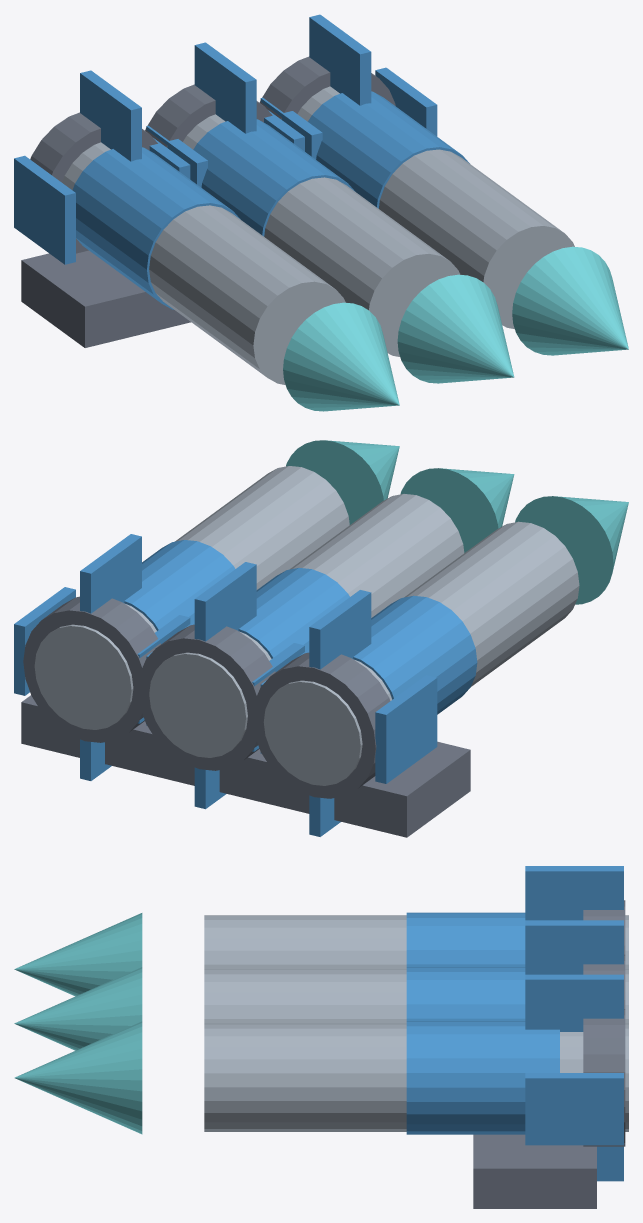
Rendered from pls-1.glb.
3 renders of one model, top to bottom at view 1: azimuth 30°, elevation 25°; view 2: azimuth 150°, elevation 25°; view 3: azimuth 270°, elevation 25°, orthographic. The views are drawn at different scales.
Parts seen in each view (by area): view 1: part000, part016, part008, part001, part010, part018, part002, part024, part009, part017, part006, part021 (+10 smaller); view 2: part000, part016, part008, part024, part001, part003, part019, part011, part002, part009, part017, part018 (+11 smaller); view 3: part016, part017, part000, part008, part024, part018, part020, part001, part009, part010, part002, part021 (+6 smaller).
Boxes of the visible parts, box(x1,y1,x2,y2) form: part000: box(62, 142, 345, 384); part016: box(297, 86, 574, 329); part008: box(183, 114, 460, 356); part001: box(72, 147, 240, 309); part010: box(397, 274, 514, 383); part018: box(512, 246, 628, 355); part002: box(283, 302, 399, 411); part024: box(21, 250, 190, 347); part009: box(193, 119, 355, 236); part017: box(308, 91, 469, 208); part006: box(14, 155, 75, 264); part021: box(309, 14, 371, 105); part000: box(263, 521, 579, 785); part016: box(34, 466, 349, 729); part008: box(149, 494, 464, 757); part024: box(21, 695, 470, 837); part001: box(353, 595, 477, 714); part003: box(252, 652, 390, 798); part019: box(23, 596, 160, 742); part011: box(138, 624, 275, 770); part002: box(515, 496, 628, 604); part009: box(238, 568, 349, 658); part017: box(124, 540, 235, 630); part018: box(286, 440, 399, 524); part016: box(204, 1023, 628, 1131); part017: box(406, 1021, 559, 1134); part000: box(204, 915, 628, 969); part008: box(204, 969, 628, 1023); part024: box(473, 1134, 596, 1208); part018: box(14, 1021, 142, 1134); part020: box(525, 1073, 623, 1145); part001: box(406, 912, 525, 966); part009: box(406, 967, 525, 1021); part010: box(14, 967, 142, 1050); part002: box(14, 913, 142, 996); part021: box(525, 974, 623, 1031).
Size of the model in its own units: 1.75 by 0.9 by 2.49.
